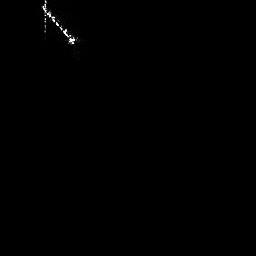ship: (41, 1, 80, 44)
